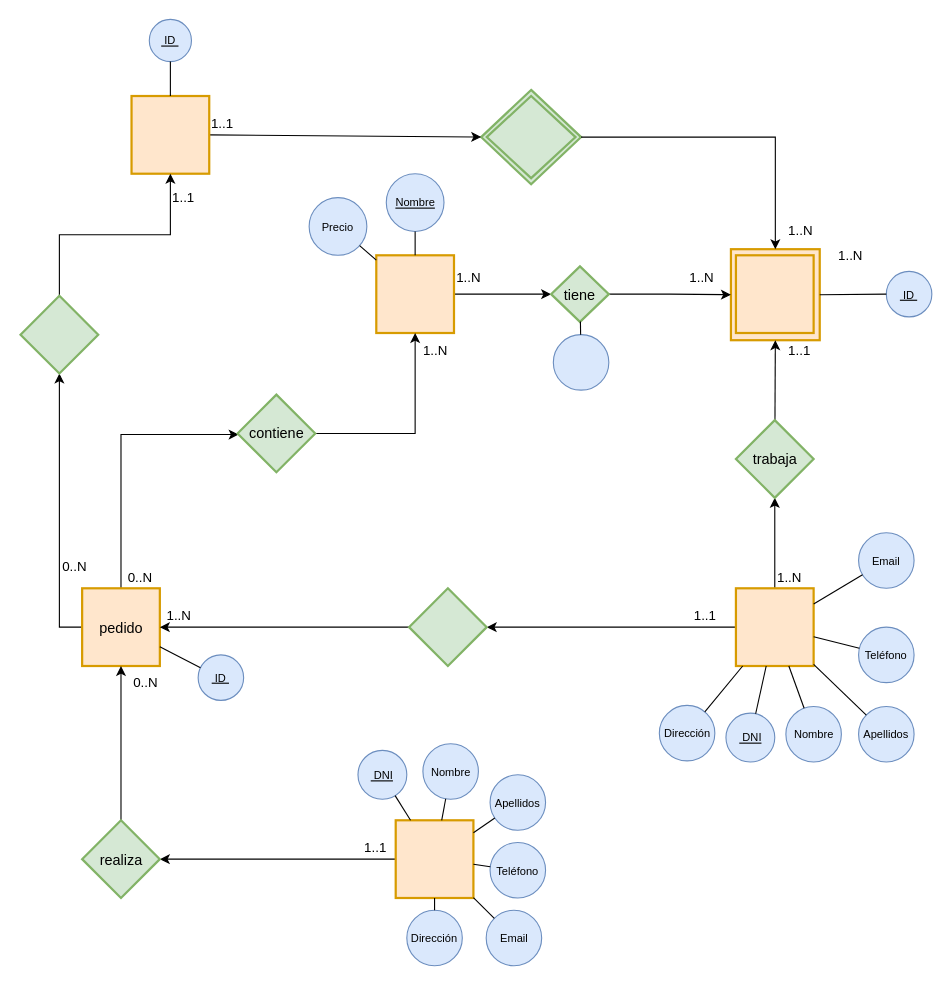
Some shapes in this 951 by 986 pixel diagram are drawn without their labels. The shapes that lost their labels are listed below. From the top down, each one's centre as x and y in pixels, then its label:
point (170, 134): viveros
point (415, 294): producto
point (774, 294): zona
point (59, 334): despachar
point (580, 362): cantidad
point (447, 627): gestiona
point (774, 627): empleado
point (434, 859): clienteplus
